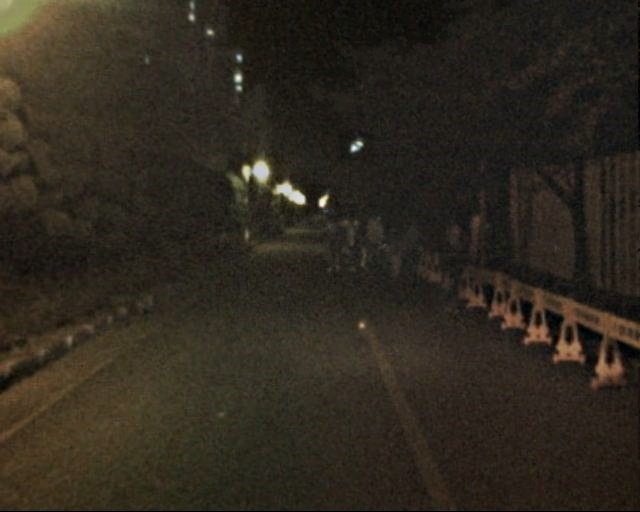person: (434, 223, 473, 318), (317, 216, 342, 278), (362, 214, 387, 274), (400, 218, 423, 275), (384, 226, 406, 279), (340, 219, 361, 270), (350, 220, 370, 268)
